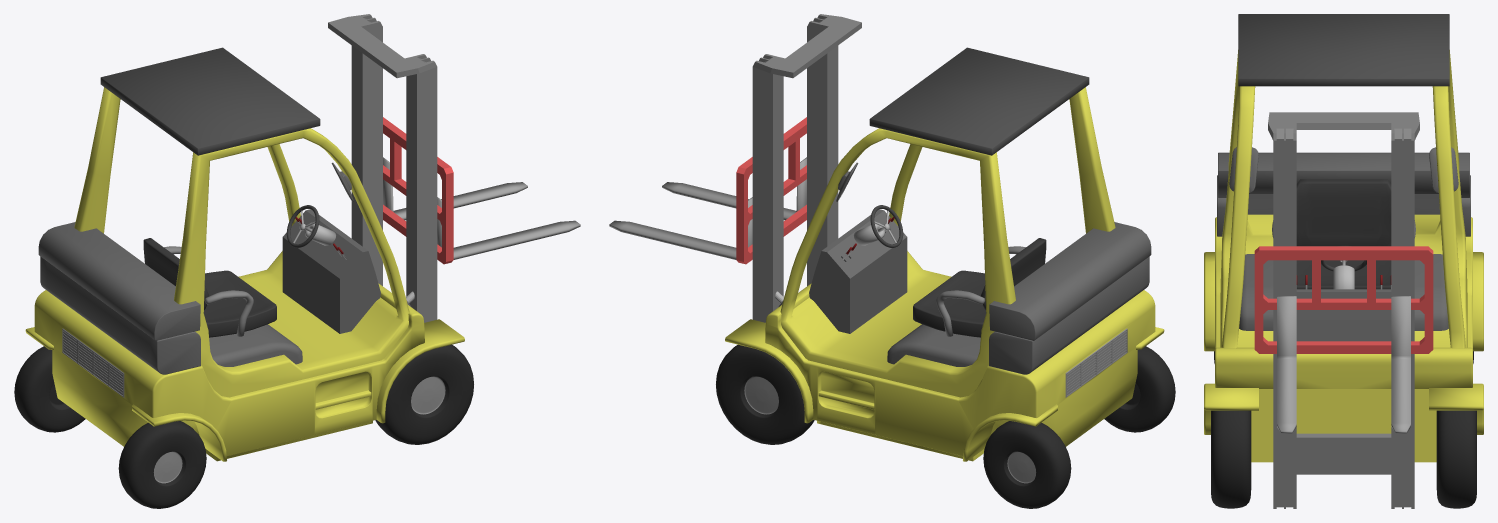
Rendered from forklift.glb.
3 views of the same model, side by side, from view 1: azimuth 30°, elevation 25°; view 2: azimuth 150°, elevation 25°; view 3: azimuth 270°, elevation 25° (orthographic). The views are drawn at different scales.
Parts seen in each view (by area): view 1: Forklift; view 2: Forklift; view 3: Forklift.
Boxes of the visible parts, <box> form: Forklift: <box>14,14,580,508</box>; Forklift: <box>609,14,1175,508</box>; Forklift: <box>1204,14,1483,508</box>.
Size of the model in its own units: 403 by 287 by 187.
